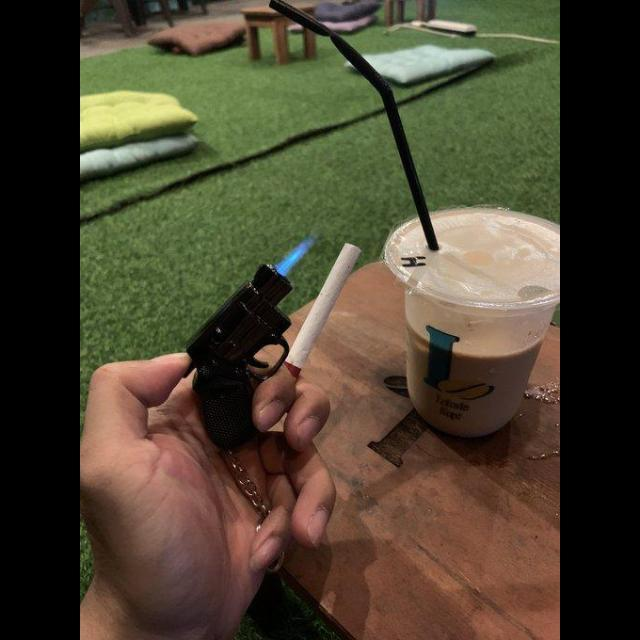rokok: (280, 240, 362, 384)
